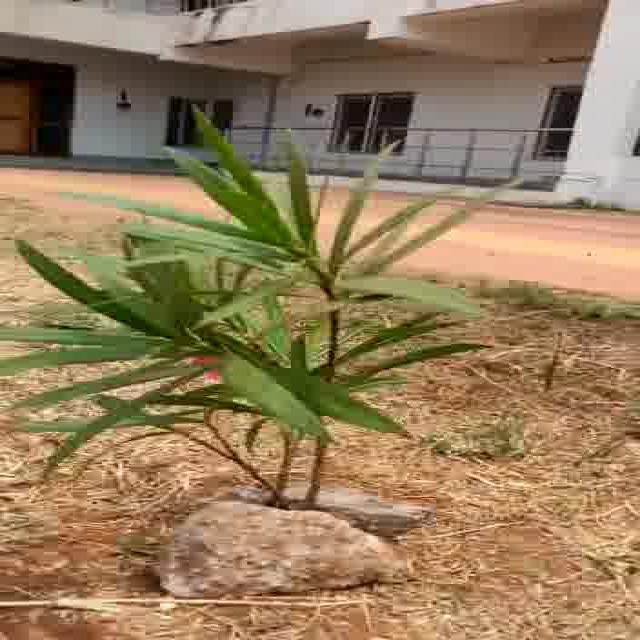Oleander: (50, 103, 522, 516)
